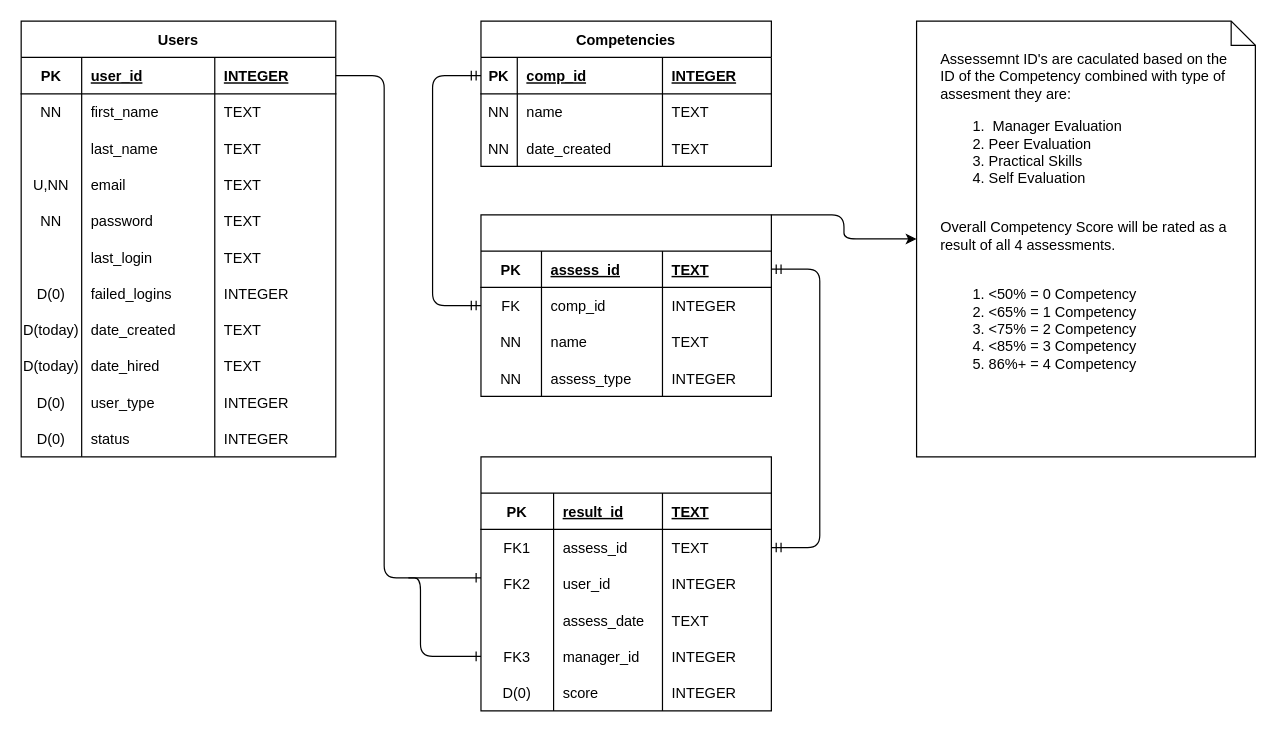
Some shapes in this 1277 by 732 pixel diagram are drawn without their labels. The box of each missing label's shape, as (x1, y1, x2, y2) in pixels:
Assessment_Results: (480, 456, 771, 711)
Assessments: (480, 214, 771, 396)
